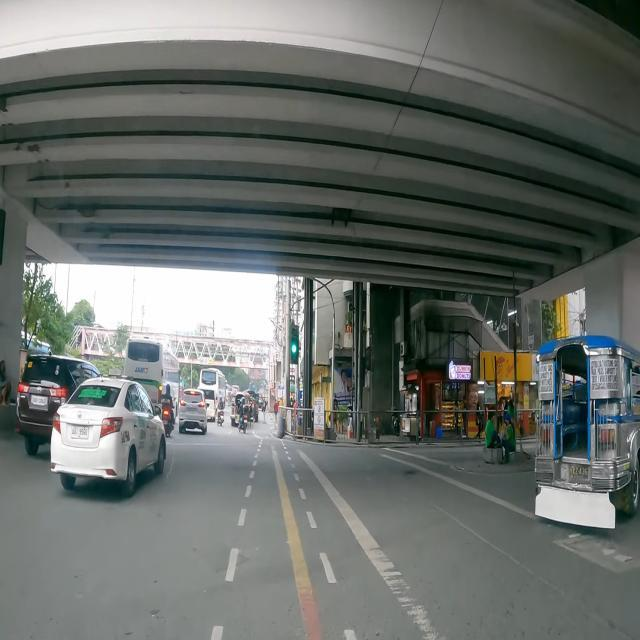bus: (122, 336, 181, 426), (198, 368, 226, 410), (226, 384, 232, 400)
car: (48, 366, 167, 499), (15, 353, 102, 457), (178, 387, 208, 435)
jeepney: (535, 336, 640, 528), (230, 391, 250, 427), (243, 389, 259, 422)
motorcycle: (161, 384, 175, 438), (238, 397, 248, 433), (217, 396, 224, 426), (252, 398, 259, 424)
